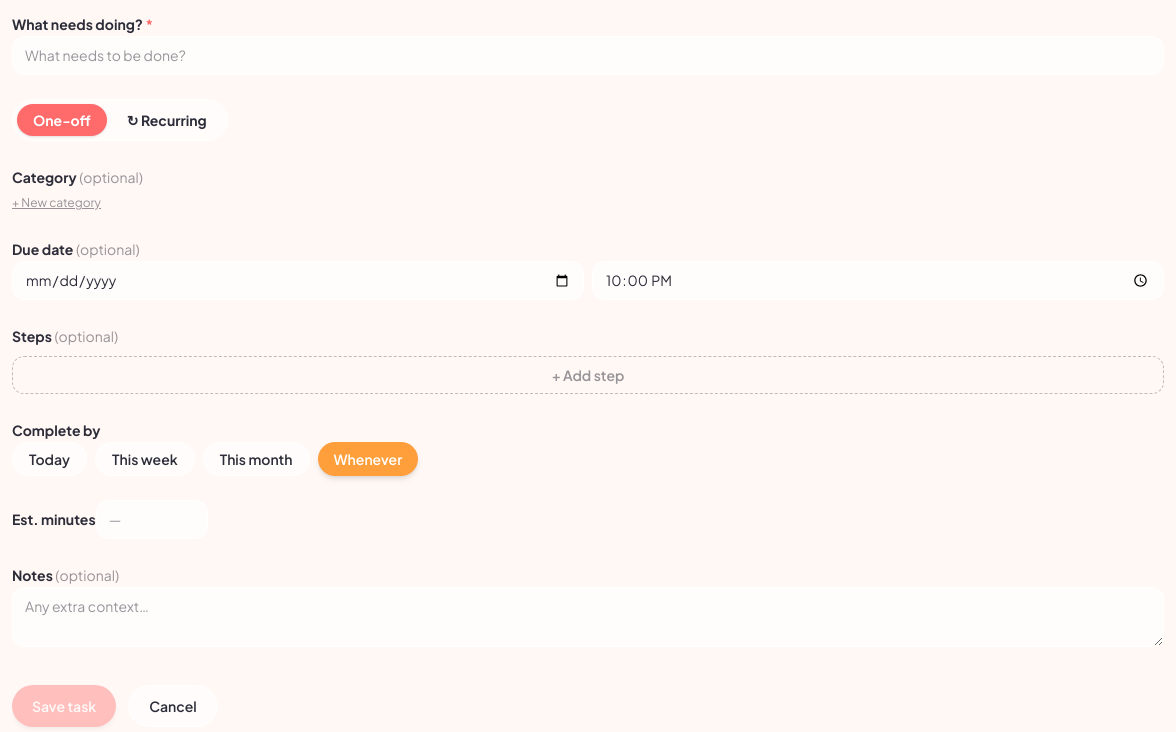
Test: TaskForm › switches to cyclic when Recurring is toggled
Click the button "↻ Recurring" at [167, 120], box [111,104,223,136]
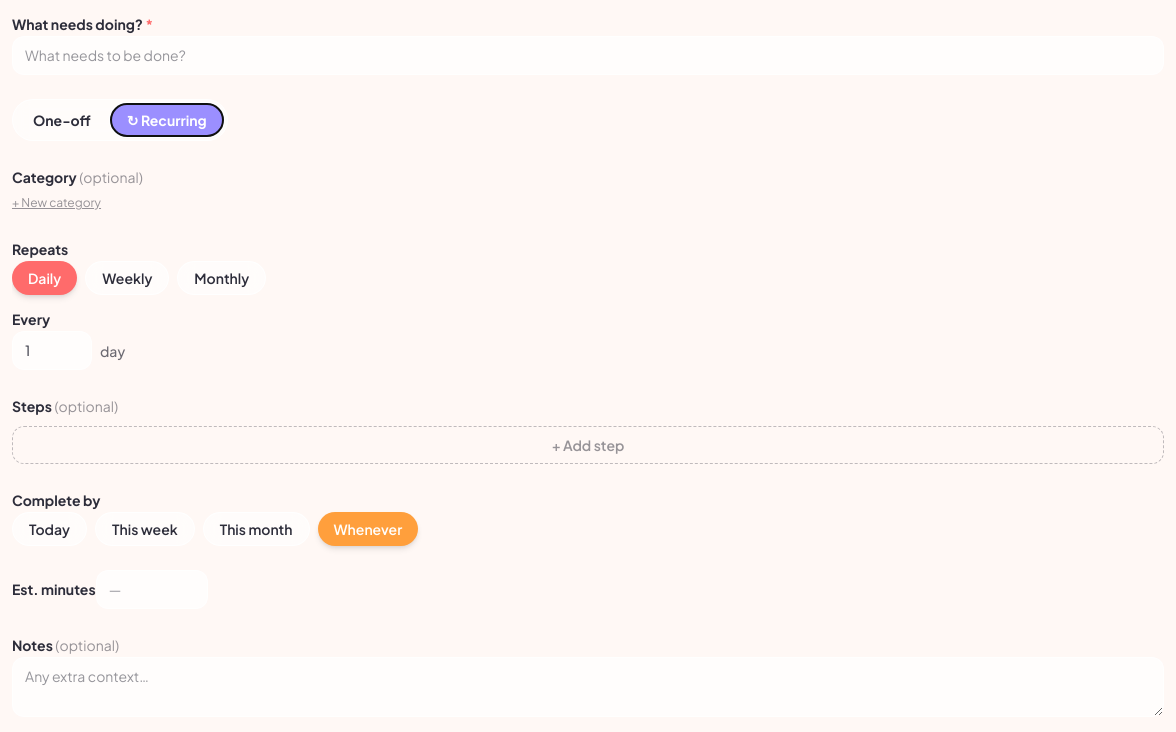
Expected: the text "Repeats" is shown, [12,240,68,258]
Expected: the field labelled "Due date" is gone
